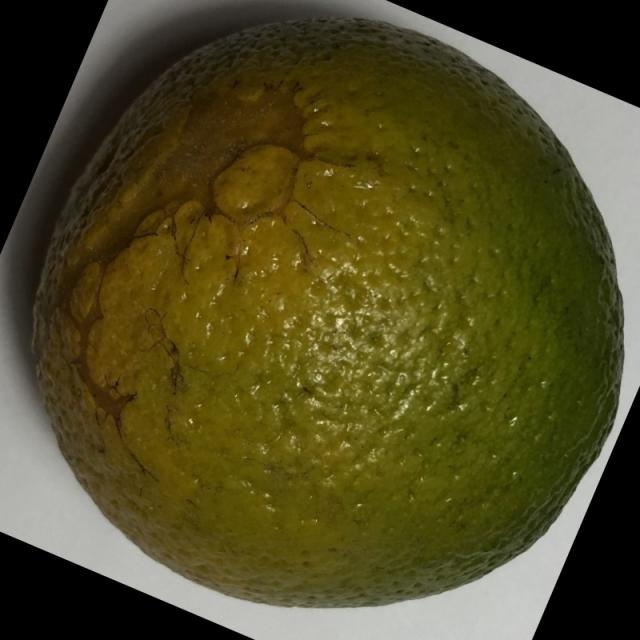canker: (18, 8, 640, 640)
